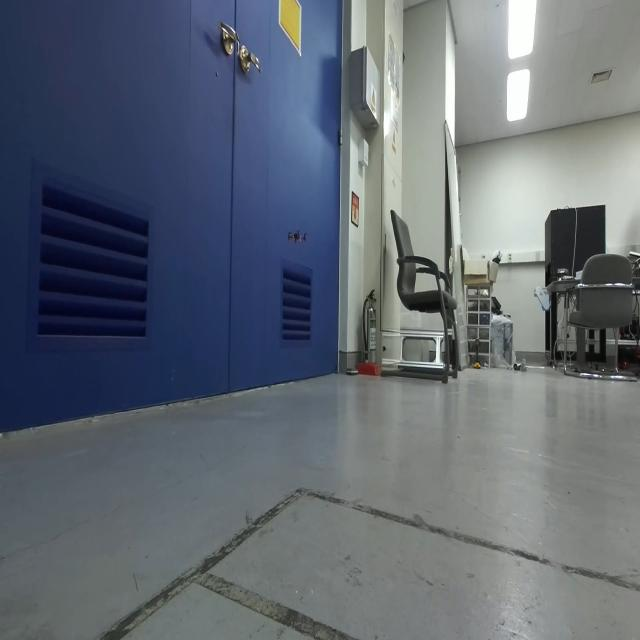crazyflie: (285, 223, 309, 253)
